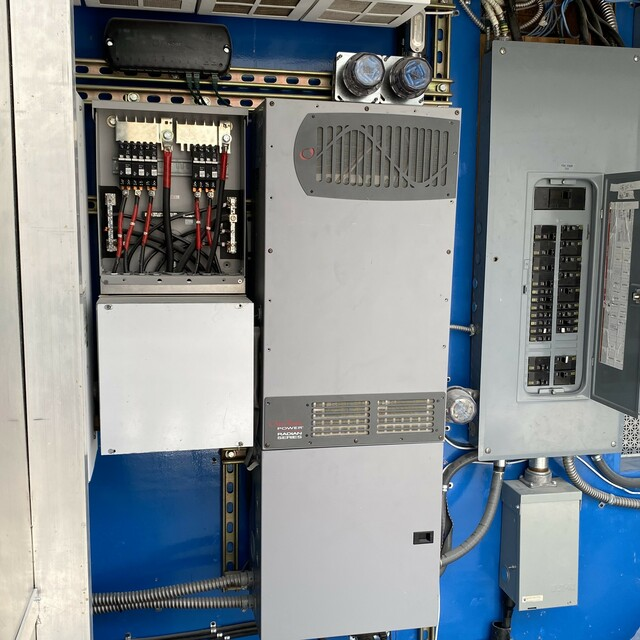inverter: (249, 80, 461, 630)
